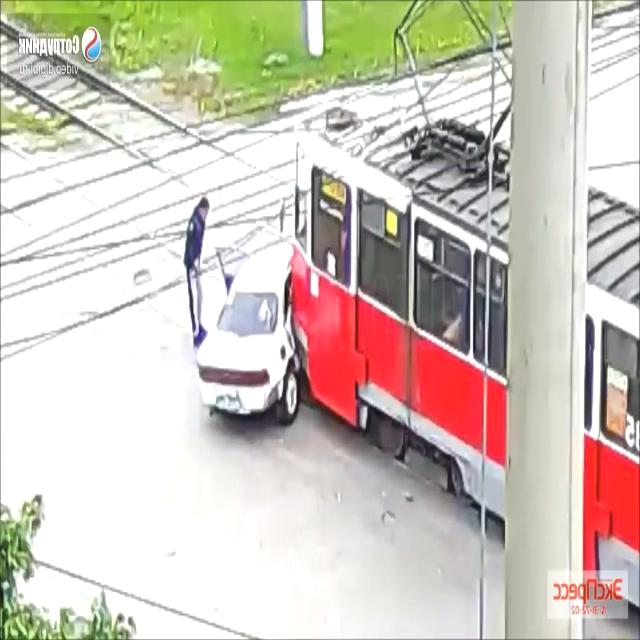accident: (192, 104, 640, 620)
